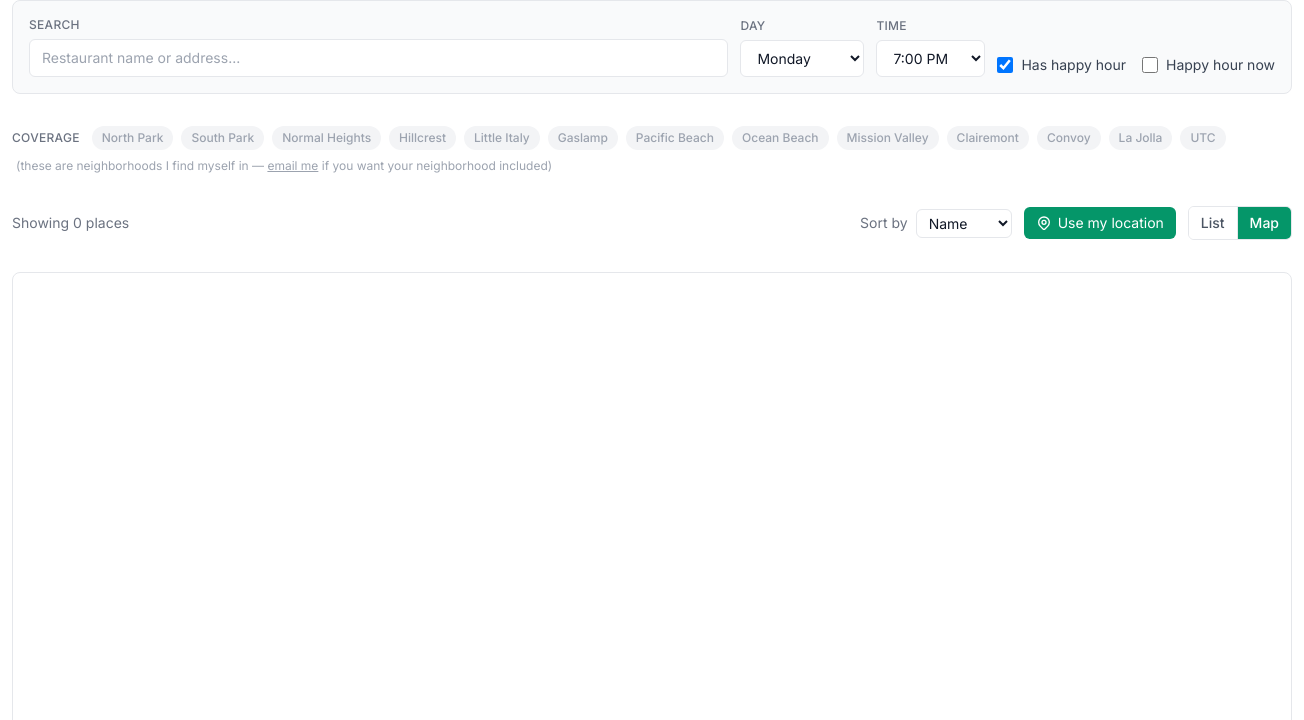
Scenario: HappyHourFinder - Restaurant Display › displays the full address for each restaurant
Click the button "List".
click(1213, 223)  # box [1189,207,1237,239]
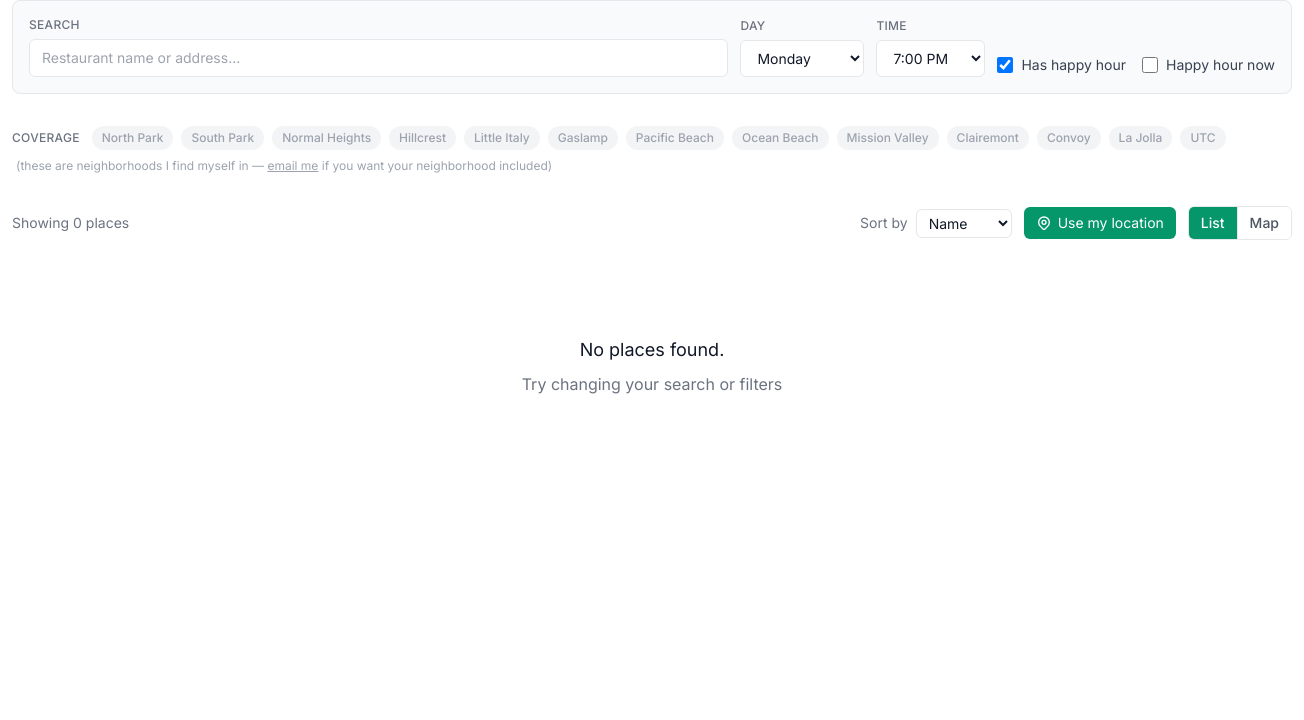
Click the checkbox labelled "Has happy hour".
click(1005, 65)  # box [997,57,1013,73]
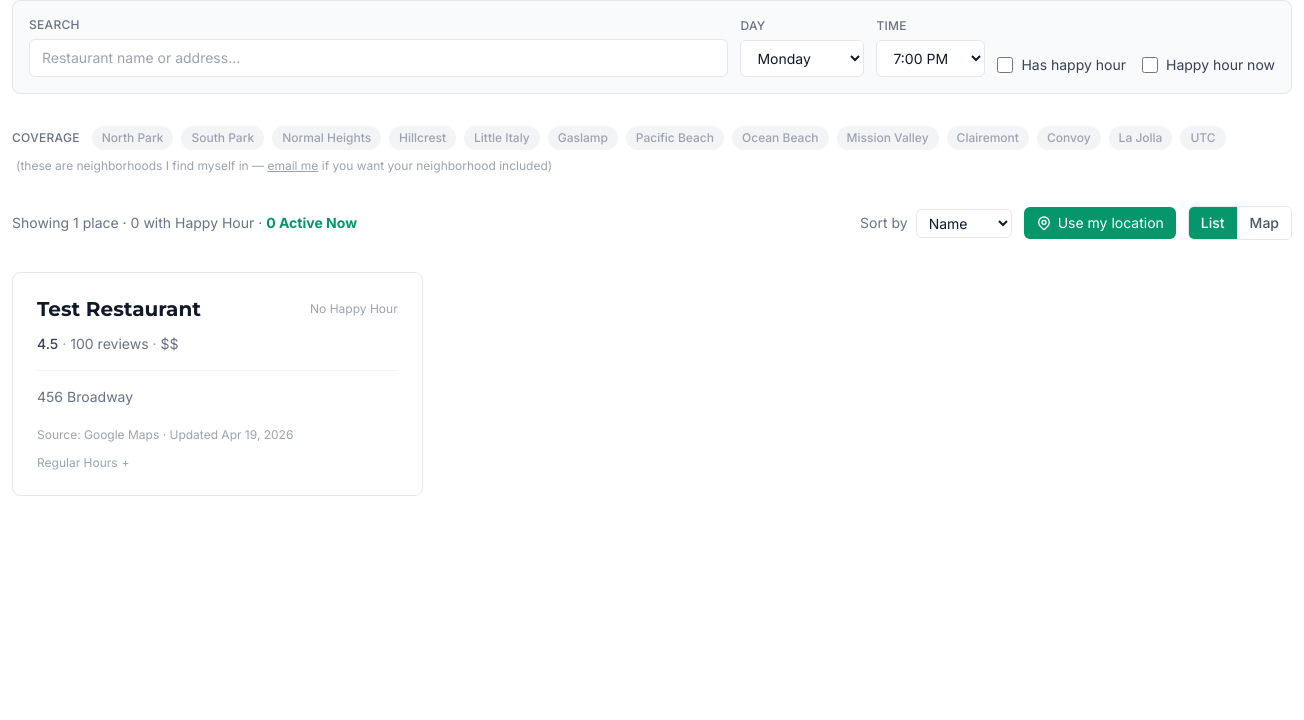
Result: the text "456 Broadway" is shown at [37,388,133,405]
